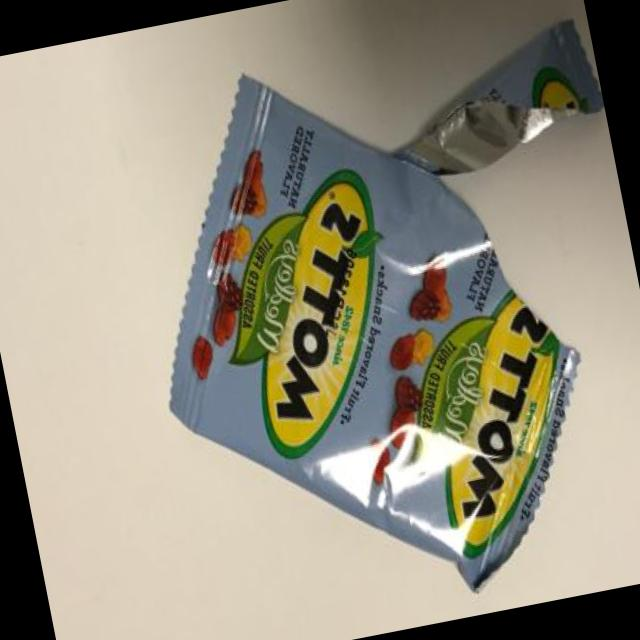bao_bi_thuc_pham: (170, 70, 581, 591)
